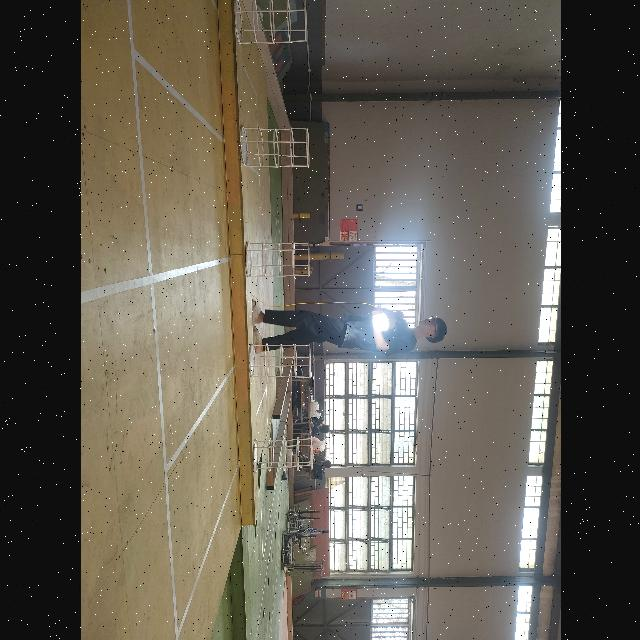S: (230, 1, 308, 52), (238, 124, 310, 174), (242, 238, 312, 284), (250, 339, 310, 385), (251, 432, 313, 476)
